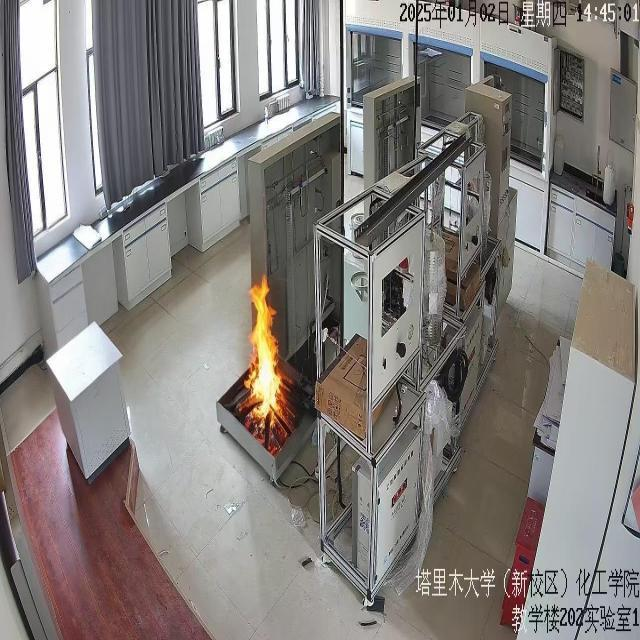smoke: (242, 266, 291, 431)
